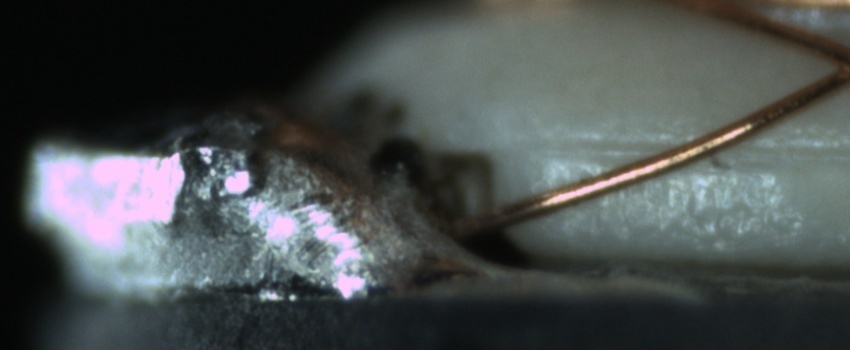DL: (530, 118, 839, 181)
